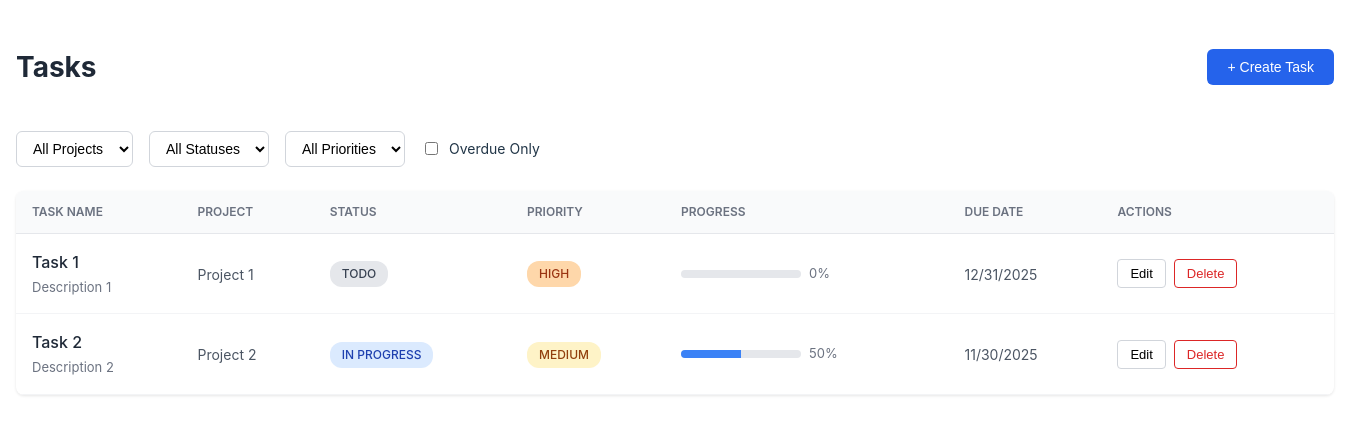
Scenario: TasksPage Integration Tests › Delete Task Workflow › displays error when delete fails
Check: the text "Task 1" is shown, box [32,252,79,272]
Click the button "Delete" in the row of "Task 1": x=1206, y=274 [1174,259,1237,288]
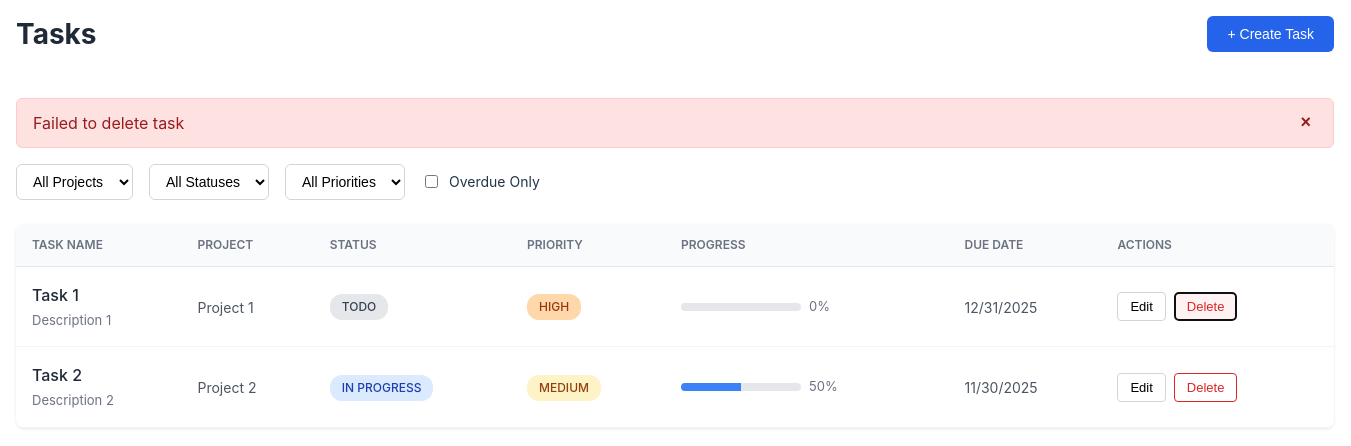
Check: the text "Failed to delete task" is shown, box [33,111,184,135]
